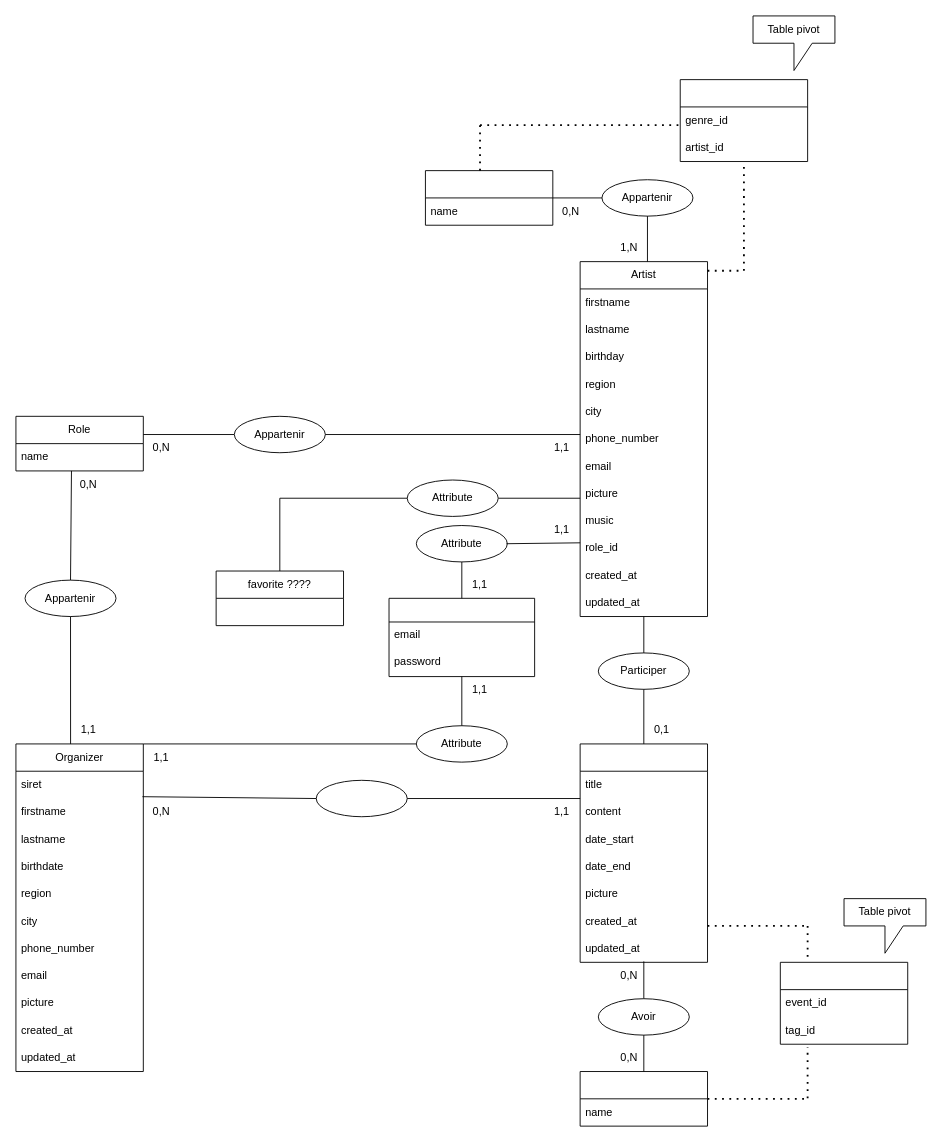
This 942x1142 diagram has some shape labels left out. The shapes that lost their labels are listed below. From the top down, each one's box as (x1, y1, x2, y2) in pixels, then its label:
(679, 79, 808, 162): genre_artist
(425, 170, 553, 225): Genre
(388, 597, 535, 677): User
(315, 779, 407, 817): Créer
(579, 743, 708, 962): Event
(779, 961, 908, 1044): event_tag
(579, 1071, 708, 1126): Tag
